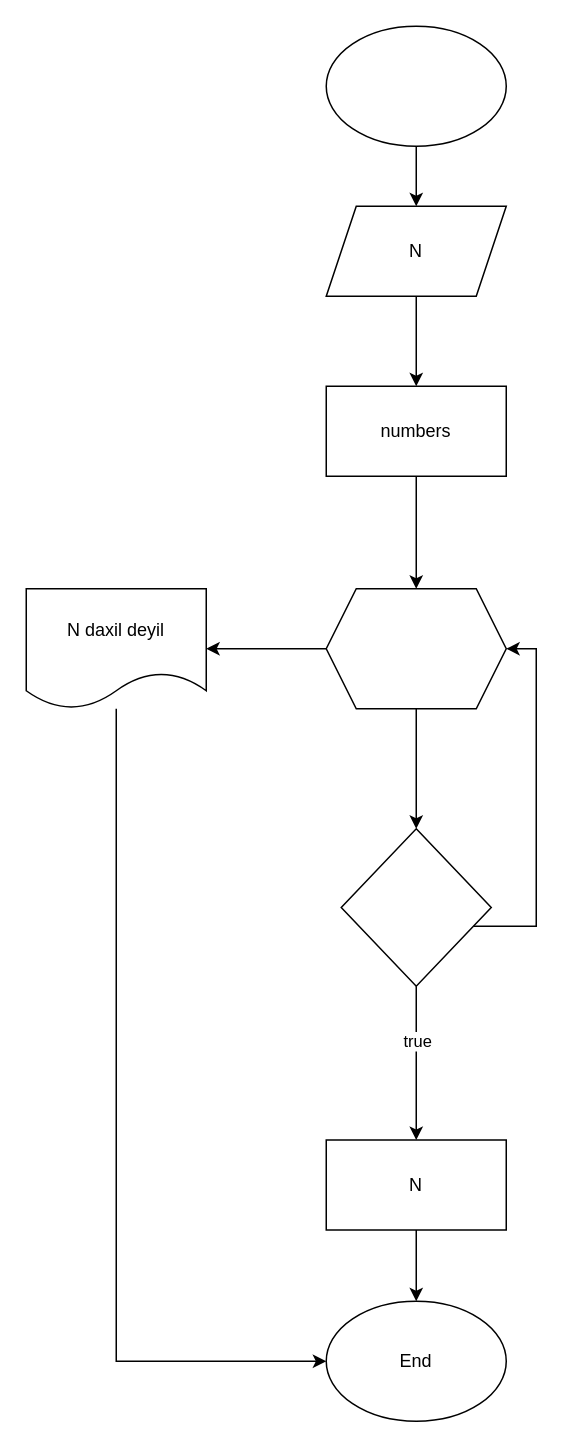
This 575x1448 diagram has some shape labels left out. The shapes that lost their labels are listed below. From the top down, each one's centre as x and y in pixels, then its label:
At pixel 415 85: "START".
At pixel 415 648: "i=0,i<numbers length,i++".
At pixel 415 906: "N!=numbers[i]".
